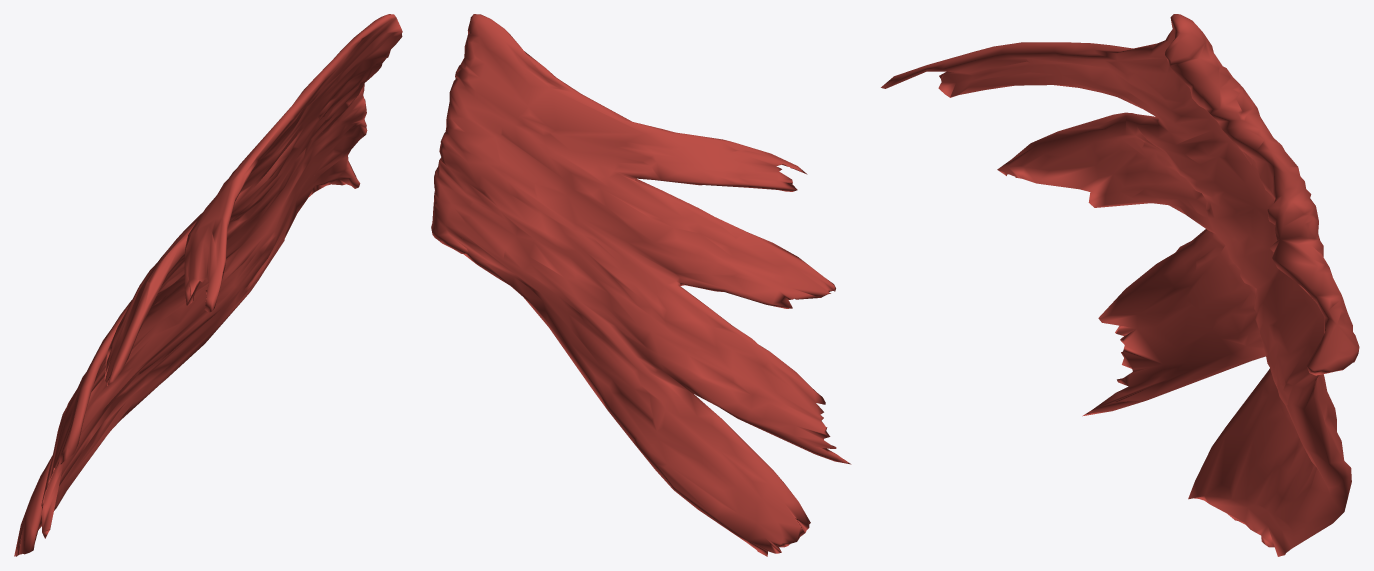
File: musculos-serratus-posterior-superior-muscle-r.glb
The picture shows the model from 3 angles, left to right: view 1: azimuth 30°, elevation 25°; view 2: azimuth 150°, elevation 25°; view 3: azimuth 270°, elevation 25°; orthographic projection. The views are drawn at different scales.
Parts seen in each view (by area): view 1: Serratus posterior superior muscle.r; view 2: Serratus posterior superior muscle.r; view 3: Serratus posterior superior muscle.r.
Part boxes in pixels (<box>): Serratus posterior superior muscle.r: <box>14,14,402,556</box>; Serratus posterior superior muscle.r: <box>431,14,851,556</box>; Serratus posterior superior muscle.r: <box>881,14,1359,556</box>.
Bounding box in the file's own units: 0.1053 × 0.1257 × 0.0664.
